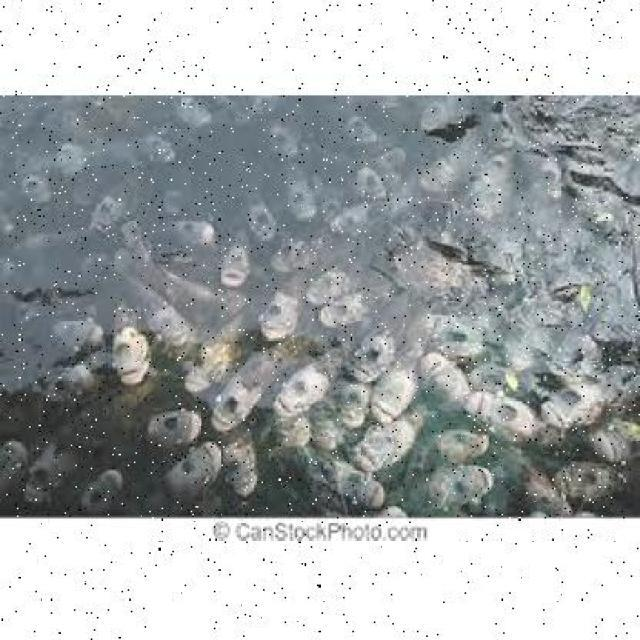gurame: (210, 342, 282, 430), (270, 341, 342, 407), (134, 271, 192, 347), (352, 416, 432, 470), (172, 326, 231, 388), (417, 464, 494, 510), (368, 348, 419, 416), (109, 302, 149, 387), (251, 278, 306, 337), (157, 441, 220, 488), (304, 258, 366, 304), (314, 464, 384, 502), (137, 404, 205, 442), (218, 226, 253, 294), (280, 166, 320, 225), (80, 460, 128, 506), (162, 210, 220, 248), (320, 293, 372, 335), (228, 427, 258, 490), (244, 186, 276, 242)
